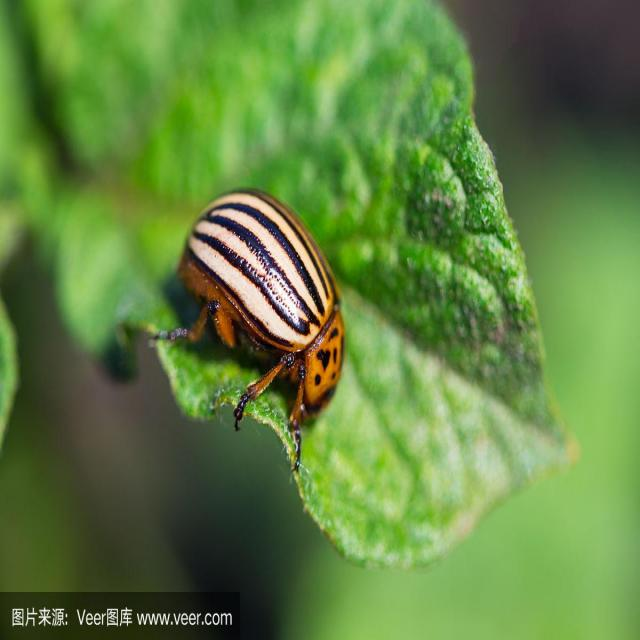ShuCaiHuaBanChong-Grown-: (158, 163, 353, 417)
